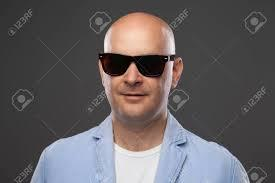sunglasses: (98, 51, 175, 79)
